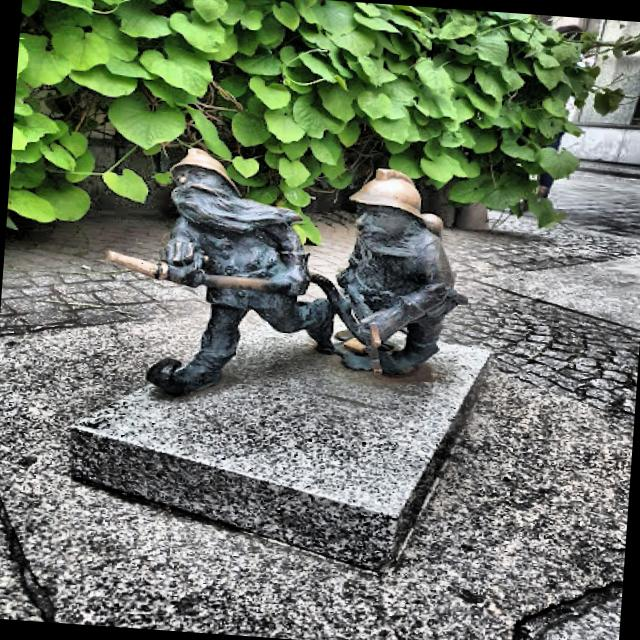Pozarki: (105, 149, 468, 395)
